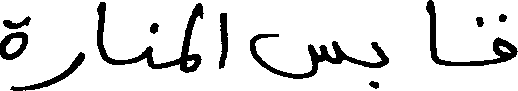ا: (425, 0, 438, 66), (95, 0, 106, 64), (217, 10, 228, 69)
ب: (370, 40, 387, 90)
ة: (0, 14, 27, 65)
ر: (43, 50, 82, 87)
س: (248, 32, 341, 80)
ق: (468, 11, 516, 64)
ل: (177, 0, 200, 48)
م: (170, 52, 202, 76)
ن: (140, 20, 153, 69)
